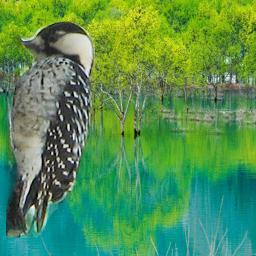Woodpecker: (6, 20, 95, 238)
